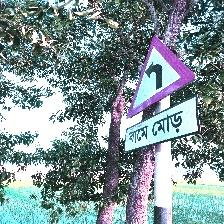Left-Turn: (121, 35, 200, 155)
